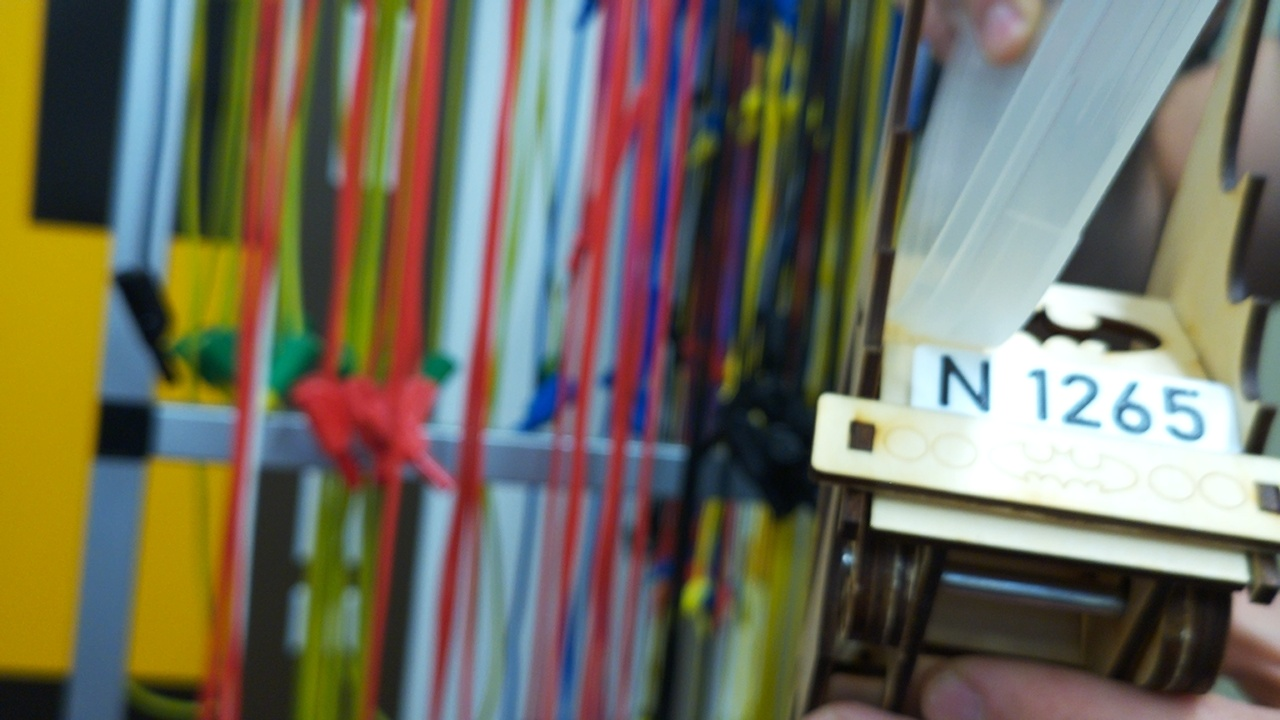license_plate: (908, 341, 1244, 461)
